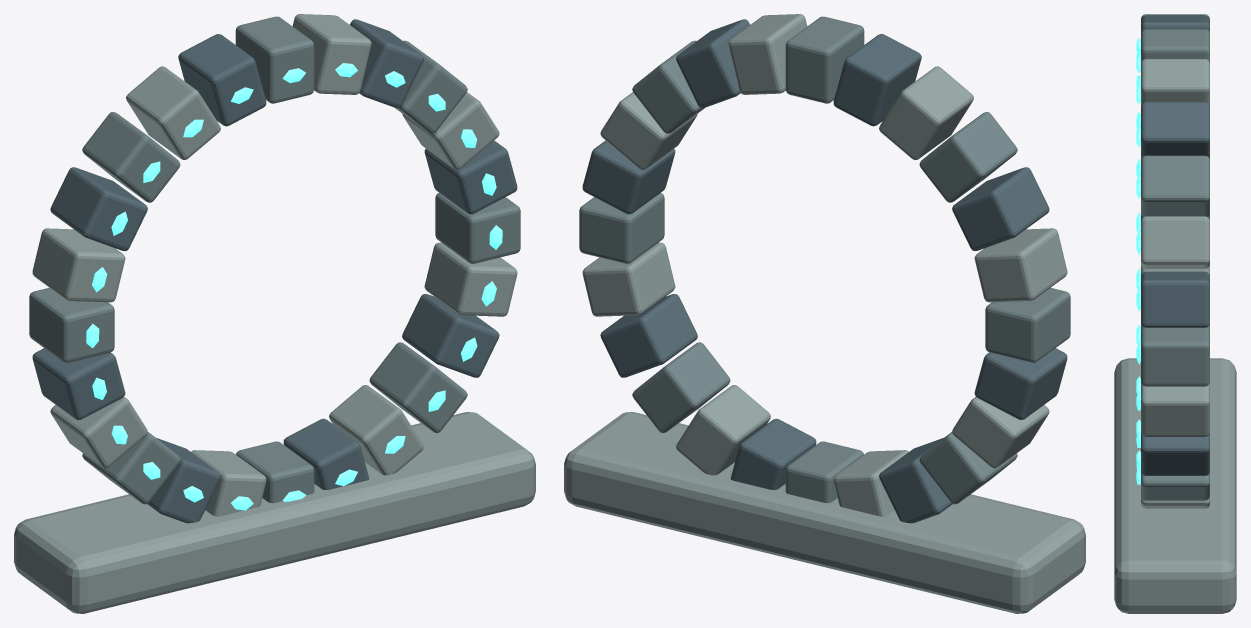
Rendered from portal_ring.glb.
3 views of the same model, side by side, from view 1: azimuth 30°, elevation 25°; view 2: azimuth 150°, elevation 25°; view 3: azimuth 270°, elevation 25° (orthographic). The views are drawn at different scales.
Parts seen in each view (by area): view 1: portal_ring; view 2: portal_ring; view 3: portal_ring.
Part boxes in pixels (x1,y1,x2,y2): portal_ring: (14,14,535,613); portal_ring: (564,14,1085,613); portal_ring: (1114,14,1236,613).
Size of the model in its own units: 3.5 by 3.63 by 0.85.
